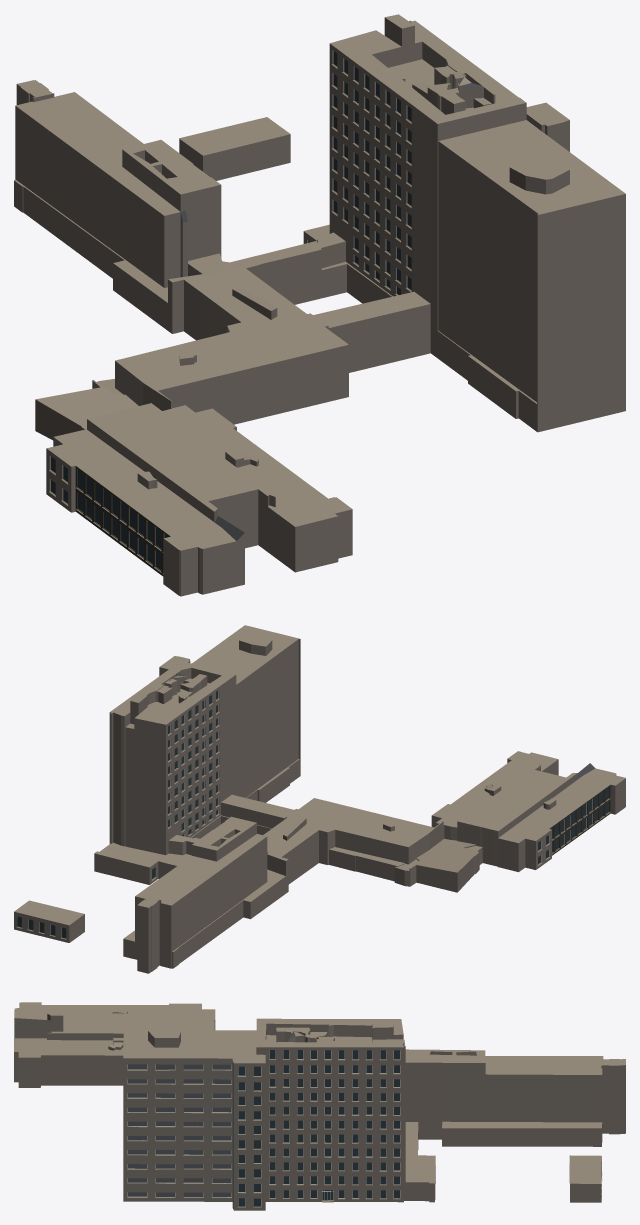
The model's file is recipe-large-pand-094874.glb.
3 renders of one model, top to bottom at view 1: azimuth 30°, elevation 25°; view 2: azimuth 150°, elevation 25°; view 3: azimuth 270°, elevation 25°, orthographic. The views are drawn at different scales.
Visible parts, largest first — view 1: pand-094874; view 2: pand-094874; view 3: pand-094874.
Boxes of the visible parts, left/top/right/bottom form: pand-094874: left=14, top=14, right=625, bottom=596; pand-094874: left=14, top=625, right=625, bottom=973; pand-094874: left=14, top=1002, right=625, bottom=1210.
Size of the model in its own units: 97.39 by 42.56 by 141.
